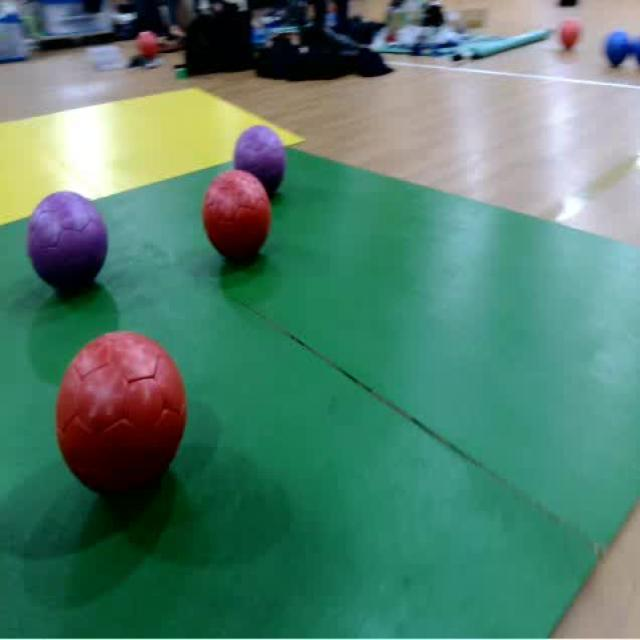blue_ball: (606, 26, 630, 74)
purple_ball: (22, 189, 114, 298), (232, 125, 290, 172)
red_ball: (56, 330, 188, 505), (198, 184, 272, 268), (559, 21, 583, 51)
